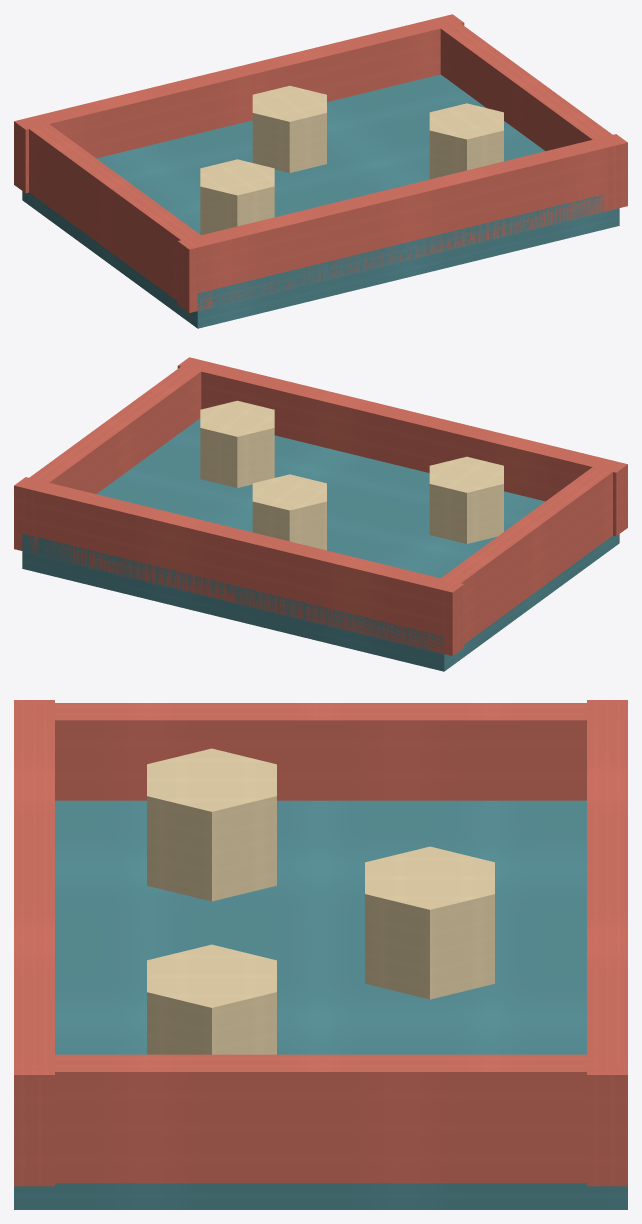
File: atlas100-s073-a03.lod2.glb
The picture shows the model from 3 angles, top to bottom: view 1: azimuth 30°, elevation 25°; view 2: azimuth 150°, elevation 25°; view 3: azimuth 270°, elevation 25°; orthographic projection. The views are drawn at different scales.
Visible parts, largest first — view 1: atlas100-s073-a03:part-000, atlas100-s073-a03:part-002, atlas100-s073-a03:part-001, atlas100-s073-a03:part-003, atlas100-s073-a03:part-004, atlas100-s073-a03:part-006, atlas100-s073-a03:part-010, atlas100-s073-a03:part-008; view 2: atlas100-s073-a03:part-000, atlas100-s073-a03:part-001, atlas100-s073-a03:part-002, atlas100-s073-a03:part-003, atlas100-s073-a03:part-004, atlas100-s073-a03:part-008, atlas100-s073-a03:part-010, atlas100-s073-a03:part-006; view 3: atlas100-s073-a03:part-000, atlas100-s073-a03:part-004, atlas100-s073-a03:part-003, atlas100-s073-a03:part-001, atlas100-s073-a03:part-002, atlas100-s073-a03:part-008, atlas100-s073-a03:part-006, atlas100-s073-a03:part-010.
Part boxes in pixels (bbox=[...]): atlas100-s073-a03:part-000: bbox=[22, 74, 619, 328]; atlas100-s073-a03:part-002: bbox=[177, 134, 627, 312]; atlas100-s073-a03:part-001: bbox=[14, 14, 464, 193]; atlas100-s073-a03:part-003: bbox=[29, 124, 212, 311]; atlas100-s073-a03:part-004: bbox=[430, 15, 624, 211]; atlas100-s073-a03:part-006: bbox=[252, 85, 326, 172]; atlas100-s073-a03:part-010: bbox=[429, 103, 503, 179]; atlas100-s073-a03:part-008: bbox=[200, 159, 274, 235]; atlas100-s073-a03:part-000: bbox=[22, 418, 619, 671]; atlas100-s073-a03:part-001: bbox=[14, 477, 464, 655]; atlas100-s073-a03:part-002: bbox=[177, 357, 627, 536]; atlas100-s073-a03:part-003: bbox=[429, 467, 612, 654]; atlas100-s073-a03:part-004: bbox=[17, 358, 211, 554]; atlas100-s073-a03:part-008: bbox=[429, 456, 503, 543]; atlas100-s073-a03:part-010: bbox=[200, 400, 274, 487]; atlas100-s073-a03:part-006: bbox=[252, 474, 326, 550]; atlas100-s073-a03:part-000: bbox=[14, 800, 627, 1209]; atlas100-s073-a03:part-004: bbox=[14, 1054, 627, 1183]; atlas100-s073-a03:part-003: bbox=[14, 703, 627, 800]; atlas100-s073-a03:part-001: bbox=[587, 700, 627, 1186]; atlas100-s073-a03:part-002: bbox=[14, 700, 54, 1186]; atlas100-s073-a03:part-008: bbox=[147, 748, 276, 901]; atlas100-s073-a03:part-006: bbox=[365, 846, 494, 999]; atlas100-s073-a03:part-010: bbox=[147, 944, 276, 1054].
Size of the model in its own units: 1.36 by 0.2563 by 0.9414.
3 materials, 3 textured.
